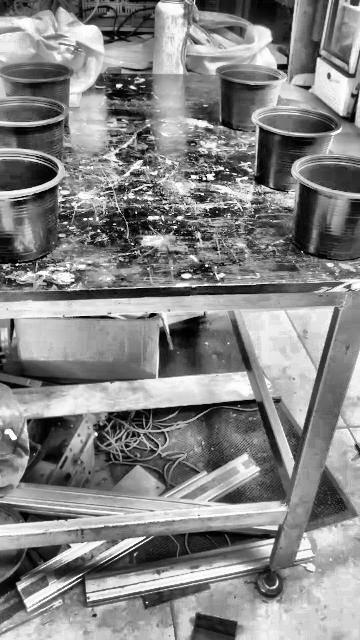pot: (252, 105, 341, 190), (0, 149, 64, 266), (292, 155, 360, 263), (0, 97, 67, 161), (215, 66, 280, 130), (0, 61, 73, 107)
